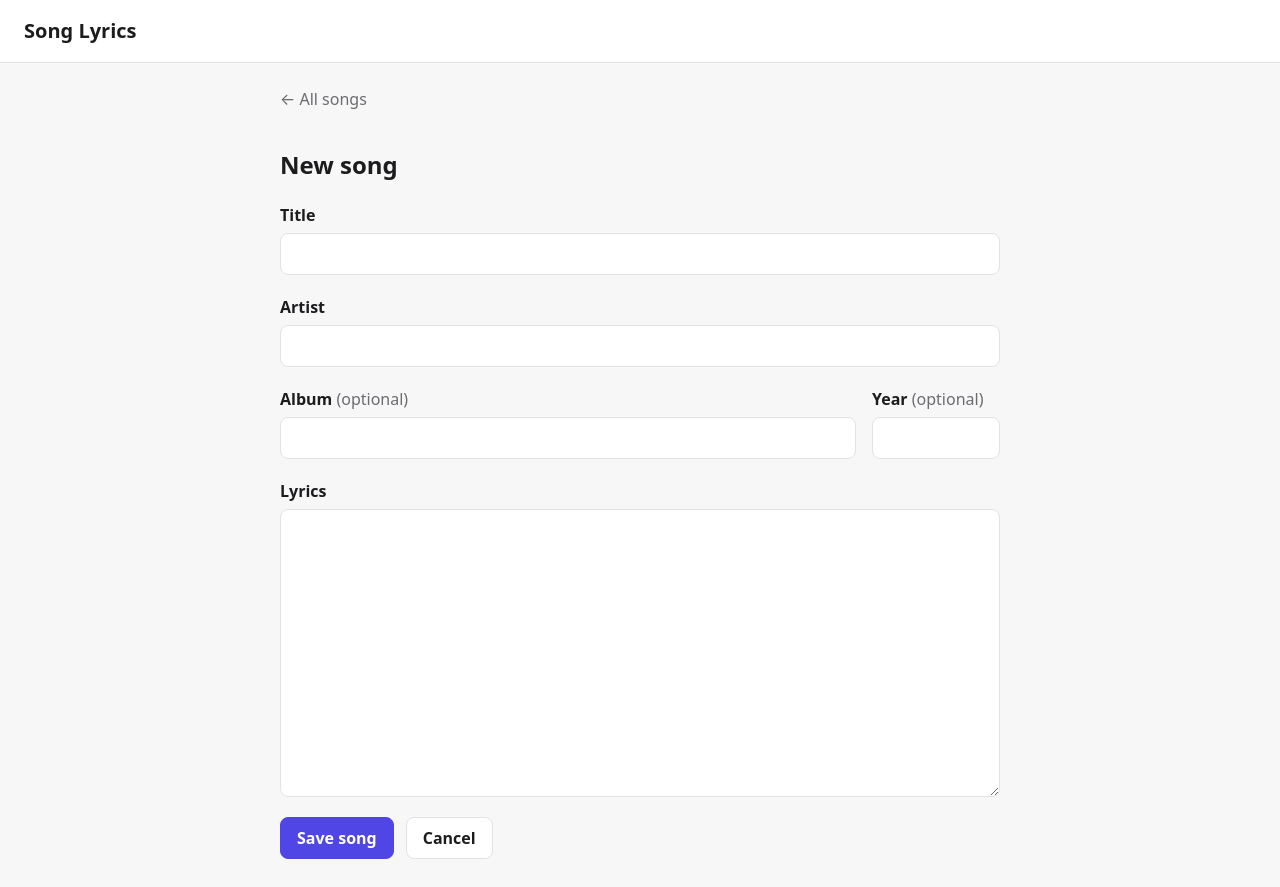
Scenario: SongFormPage — create › shows a general error when the server is unreachable
This screenshot has width=1280, height=887.
Step 1. Type "Sample" into the field labelled "Title" → x=640, y=254, box [280,233,1000,275]
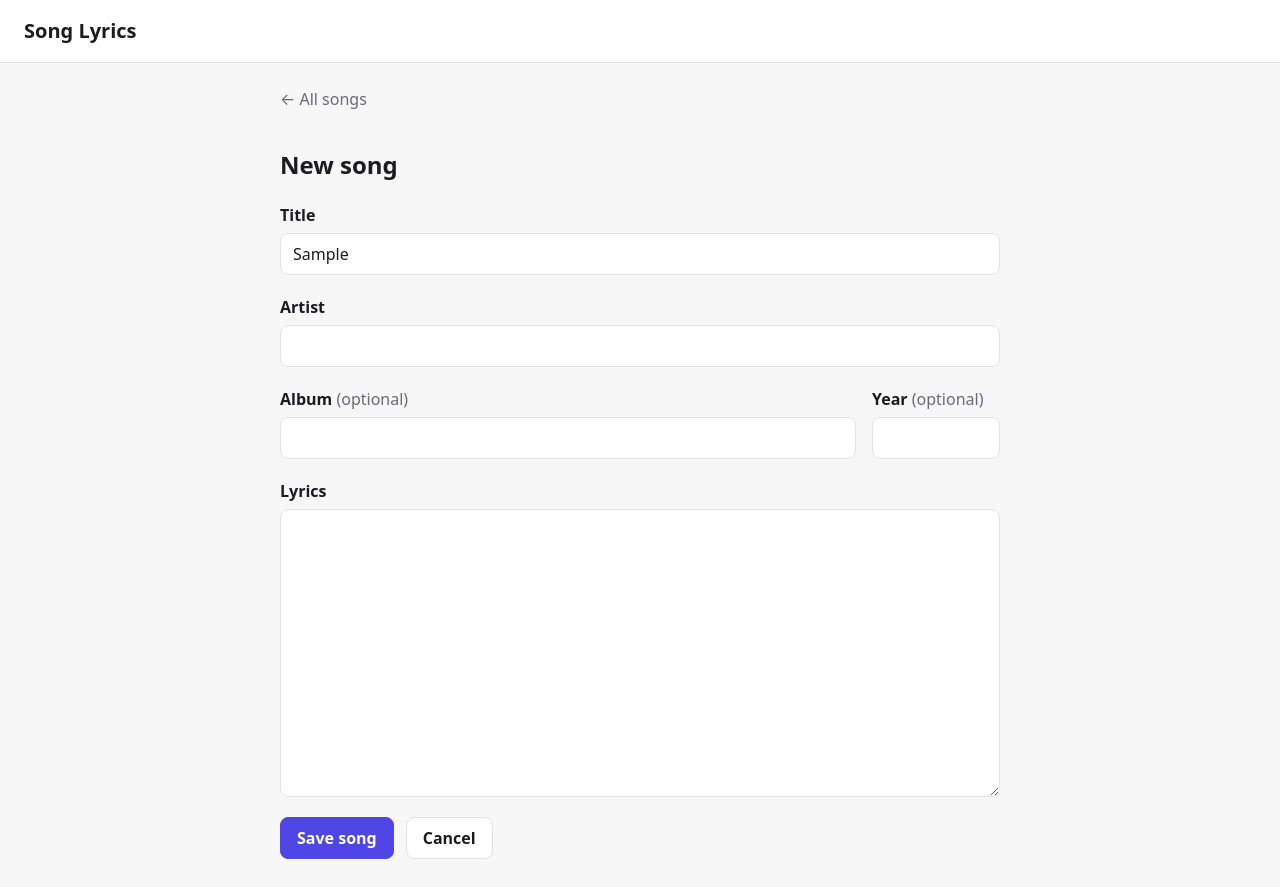
Step 2. Type "Example Band" into the field labelled "Artist" → x=640, y=346, box [280,325,1000,367]
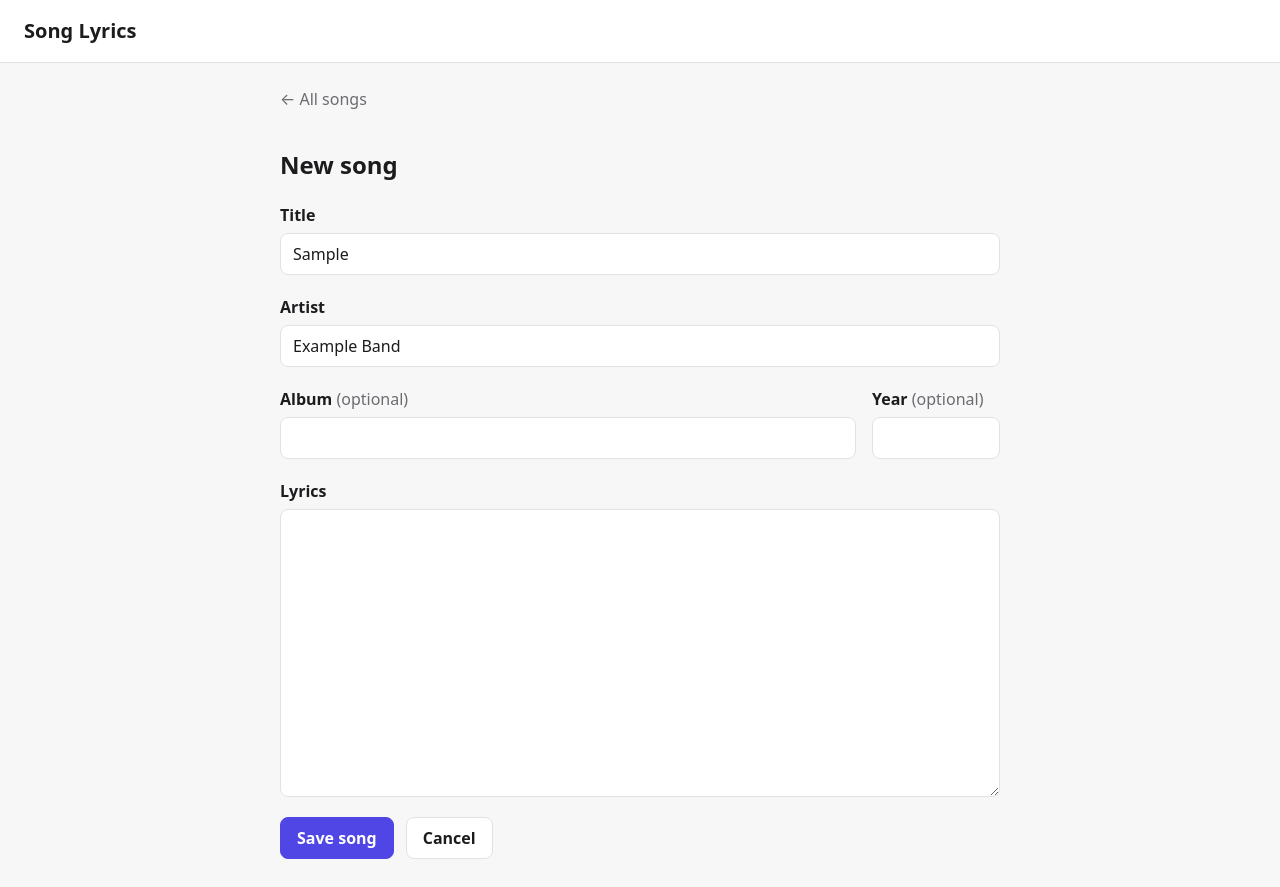
Step 3. Type "Placeholder line" into the text box labelled "Lyrics" → x=640, y=653, box [280,509,1000,797]
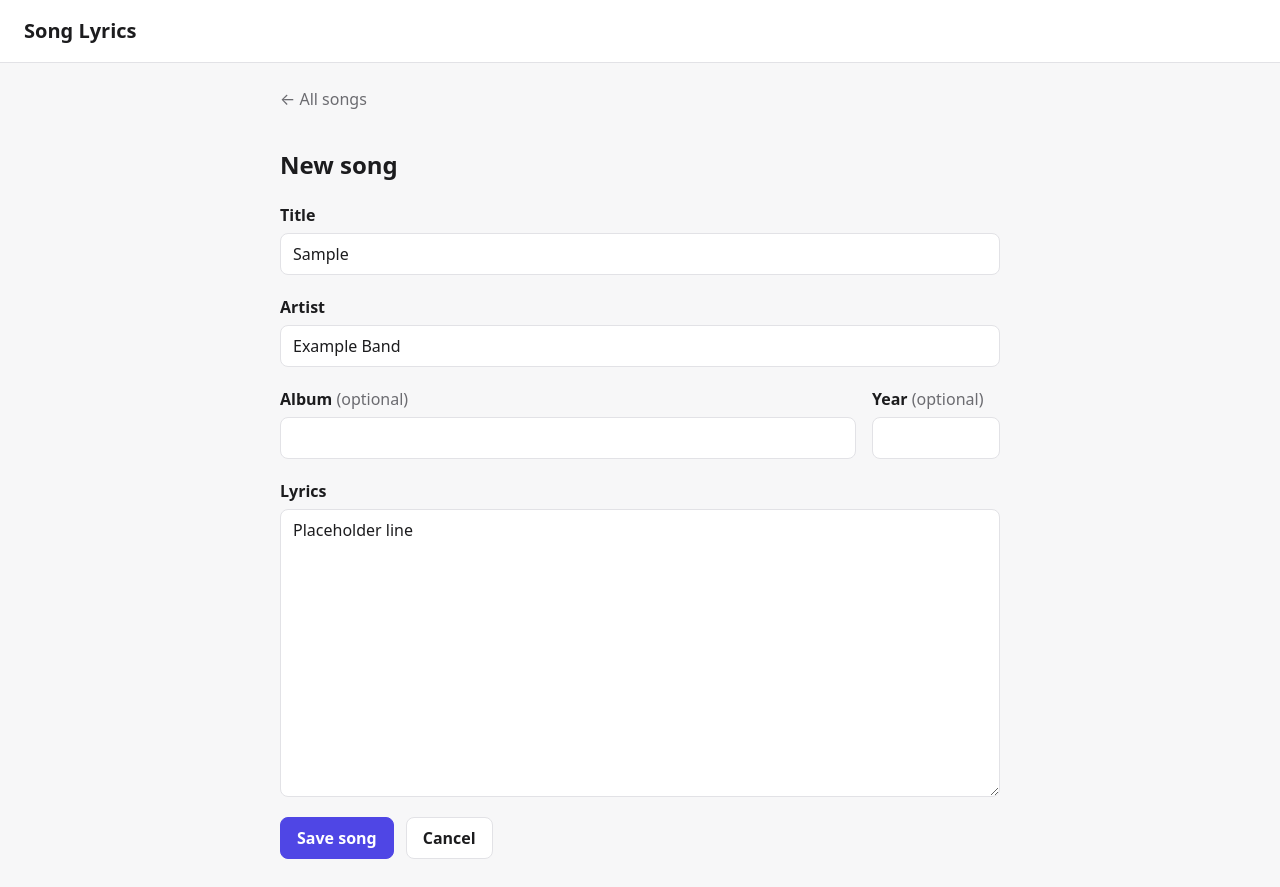
Step 4. Click the button "Save song" → x=337, y=838, box [280,817,394,859]
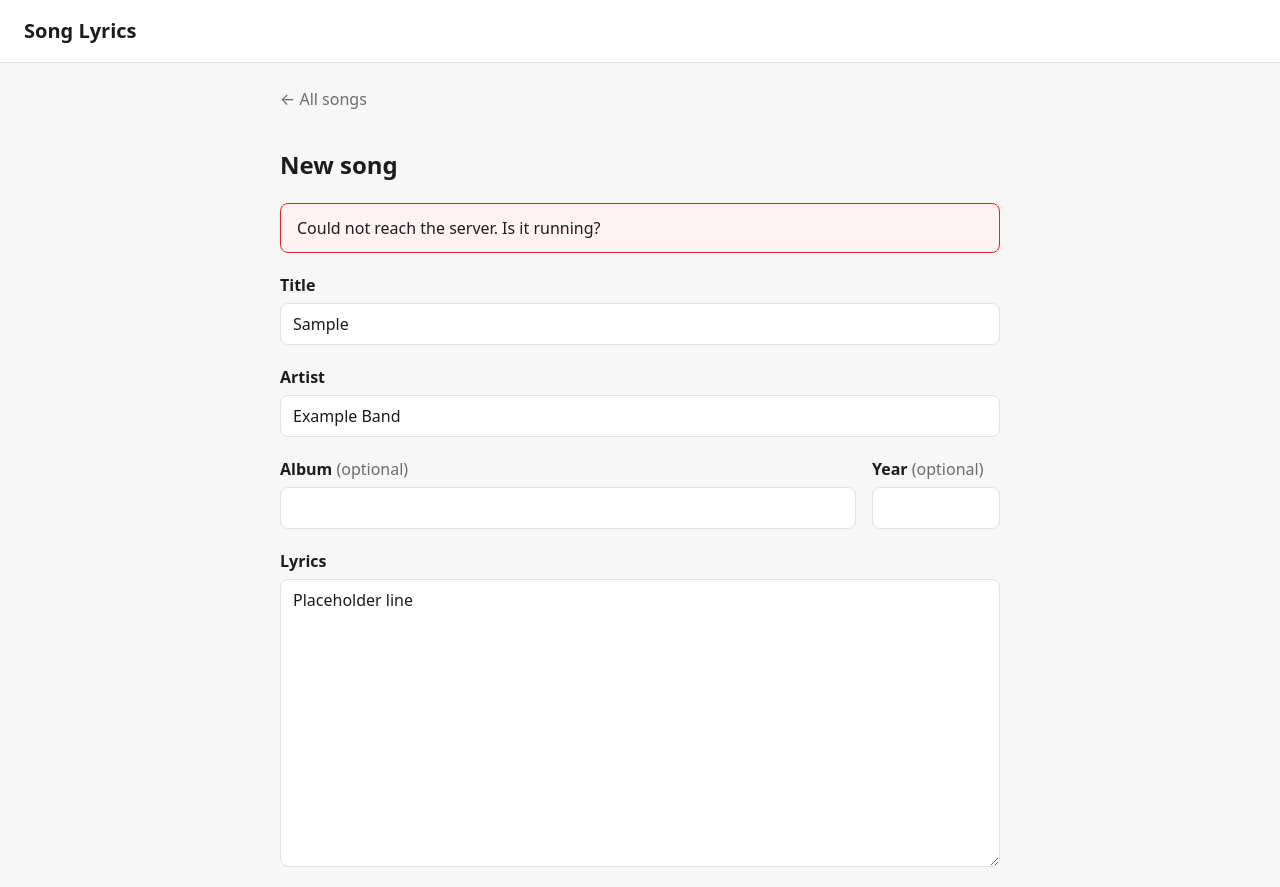
Check: the message shows "Could not reach the server", box [297,217,600,239]
